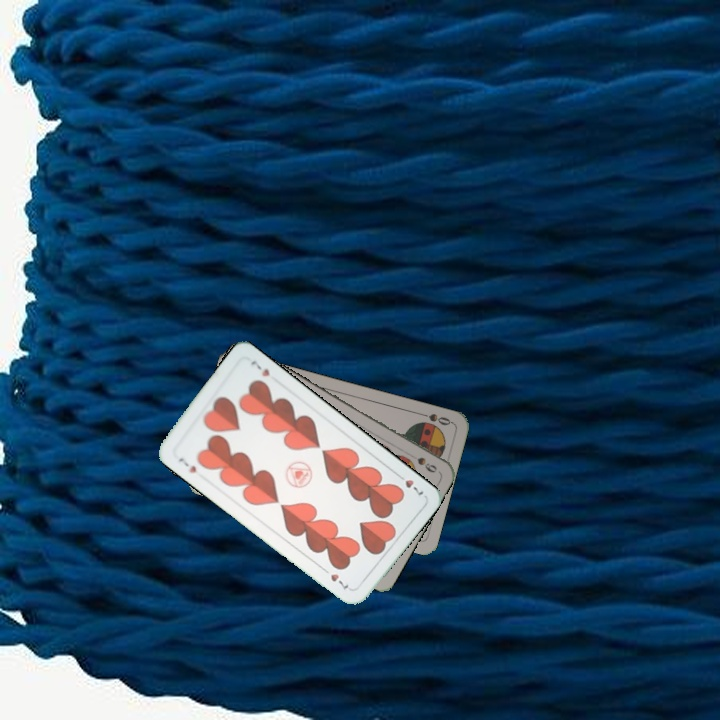H7: (392, 470, 426, 498), (175, 454, 199, 476)
S9: (403, 449, 440, 476)
SO: (414, 408, 454, 428)
